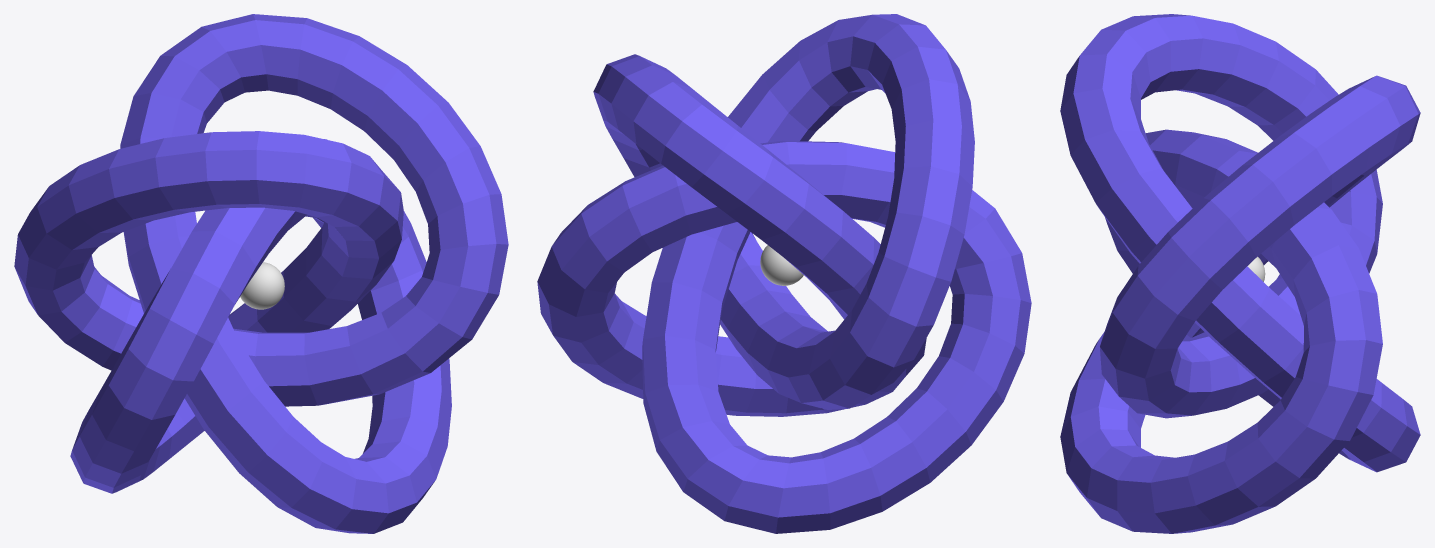
3 views of the same model, side by side, from view 1: azimuth 30°, elevation 25°; view 2: azimuth 150°, elevation 25°; view 3: azimuth 270°, elevation 25° (orthographic).
Visible parts, largest first — view 1: TorusKnot, Sphere; view 2: TorusKnot, Sphere; view 3: TorusKnot.
Boxes of the visible parts, x1,y1,x2,y2 form: TorusKnot: (14, 14, 508, 533); Sphere: (240, 262, 284, 309); TorusKnot: (537, 14, 1031, 533); Sphere: (760, 245, 803, 285); TorusKnot: (1060, 14, 1420, 533).
Bounding box in the file's own units: 5.81 × 5.84 × 4.45.
